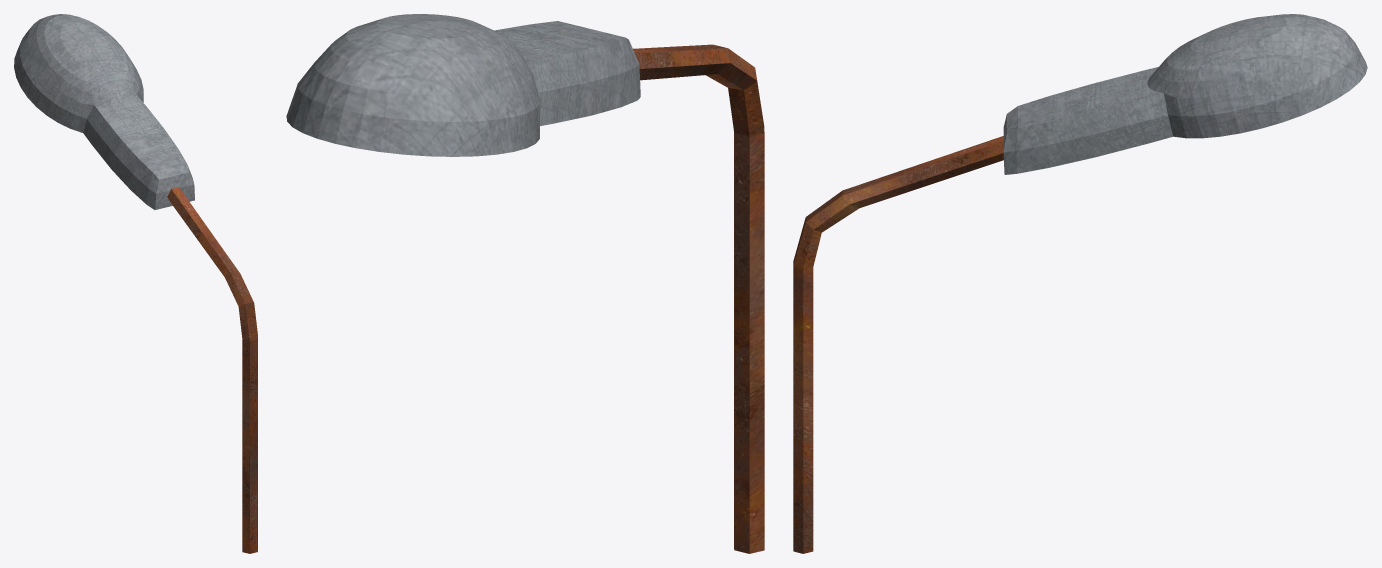
The model's file is lampSov_02.glb.
3 views of the same model, side by side, from view 1: azimuth 30°, elevation 25°; view 2: azimuth 150°, elevation 25°; view 3: azimuth 270°, elevation 25° (orthographic). The views are drawn at different scales.
Parts seen in each view (by area): view 1: geometry_1, geometry_2; view 2: geometry_1, geometry_2; view 3: geometry_1, geometry_2.
Boxes of the visible parts, bbox=[...] form: geometry_1: bbox=[14, 14, 194, 209]; geometry_2: bbox=[167, 187, 257, 553]; geometry_1: bbox=[286, 14, 640, 156]; geometry_2: bbox=[633, 44, 764, 553]; geometry_1: bbox=[1003, 14, 1367, 174]; geometry_2: bbox=[793, 136, 1003, 553].
Size of the model in its own units: 1.51 by 5.55 by 5.48.
3 materials, 3 textured.
